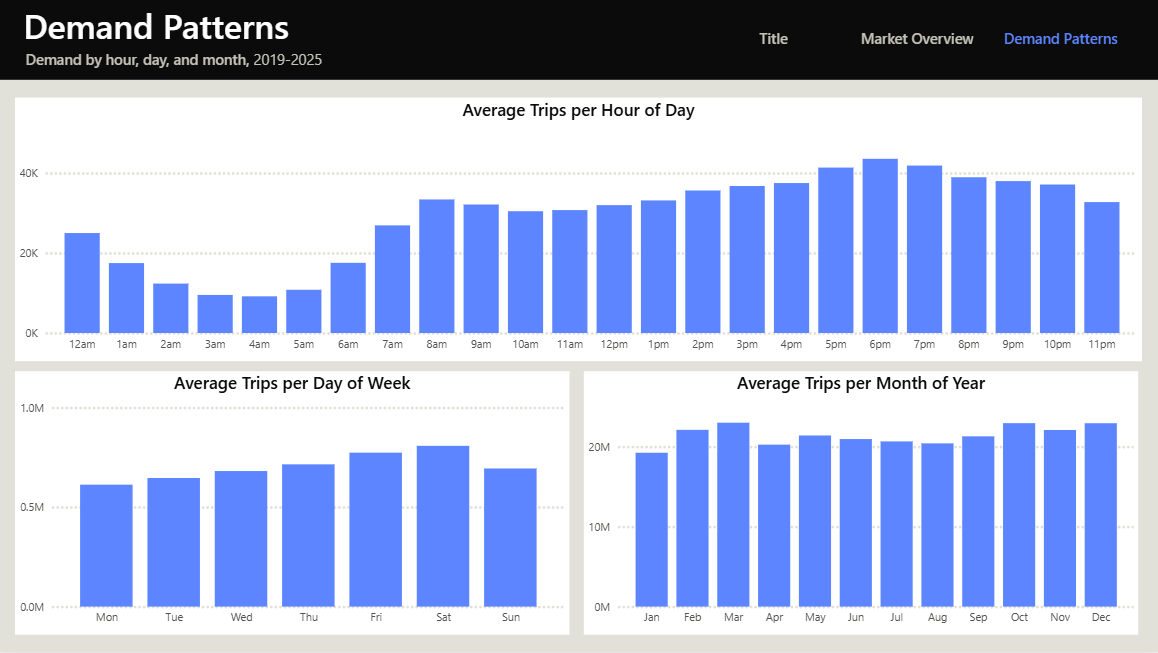

This screenshot's page, from the dashboard's own definition file:
{"tool":"powerbi","page":{"name":"Demand Patterns","canvas":[1280,720],"ordinal":2},"visuals":[{"type":"shape","box":[0,0,1279.5,90],"z":0},{"type":"textbox","box":[24,0,319.8,68.9],"z":1000},{"type":"textbox","box":[26.4,51.5,351.2,38.3],"z":2000},{"type":"pageNavigator","box":[780.8,24.2,465.7,40.6],"z":3000},{"type":"clusteredColumnChart","title":"Average Trips per Hour of Day","fields":{"Category":["hourly_demand.HourLabel"],"Y":["hourly_demand.Avg Total Trips"]},"box":[20,110,1240,290],"z":4000},{"type":"clusteredColumnChart","title":"Average Trips per Day of Week","fields":{"Category":["hourly_demand.DayLabel"],"Y":["hourly_demand.Avg Trips Per Day"]},"box":[20,410,610,290],"z":5000},{"type":"clusteredColumnChart","title":"Average Trips per Month of Year","fields":{"Category":["hourly_demand.MonthLabel"],"Y":["hourly_demand.Avg Trips Per Month"]},"box":[645,410,610,290],"z":6000}]}

Visuals, with their boxes in screenshot pixels (x1, y1, x2, y2), scaled from the page's 1280x720 canvas onto the 1158x653 screenshot:
shape: bbox=[0, 0, 1157, 82]
textbox: bbox=[22, 0, 311, 62]
textbox: bbox=[24, 47, 342, 81]
pageNavigator: bbox=[706, 22, 1128, 59]
"Average Trips per Hour of Day" clusteredColumnChart: bbox=[18, 100, 1140, 363]
"Average Trips per Day of Week" clusteredColumnChart: bbox=[18, 372, 570, 635]
"Average Trips per Month of Year" clusteredColumnChart: bbox=[584, 372, 1135, 635]
